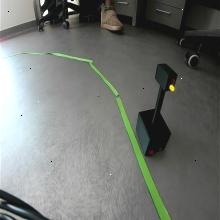green: (155, 62, 179, 93)
